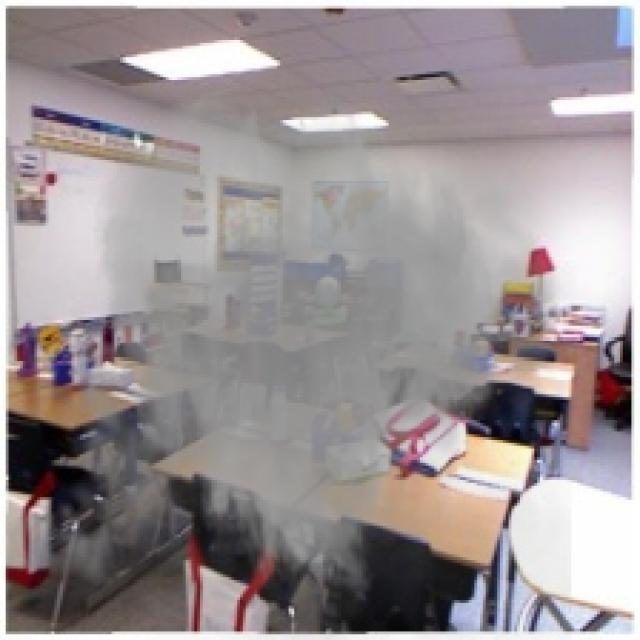Smoke: (37, 85, 574, 638)
